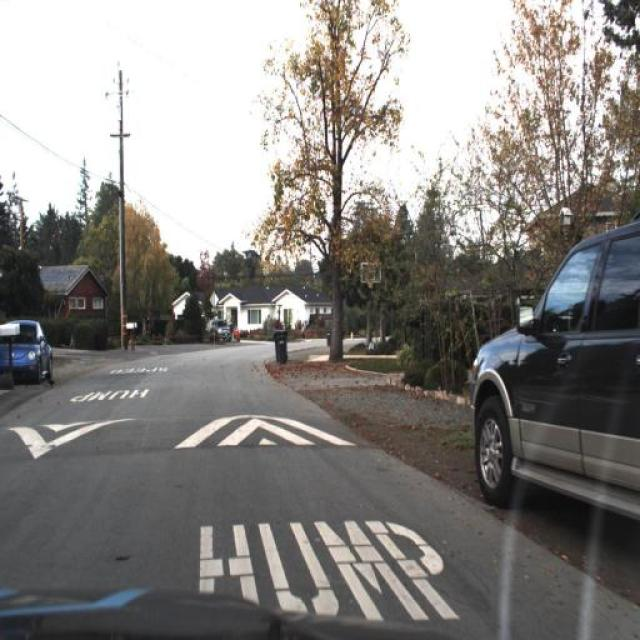car: (467, 217, 639, 524), (0, 312, 52, 401), (207, 311, 238, 348)
trafficLight: (298, 318, 308, 346)
